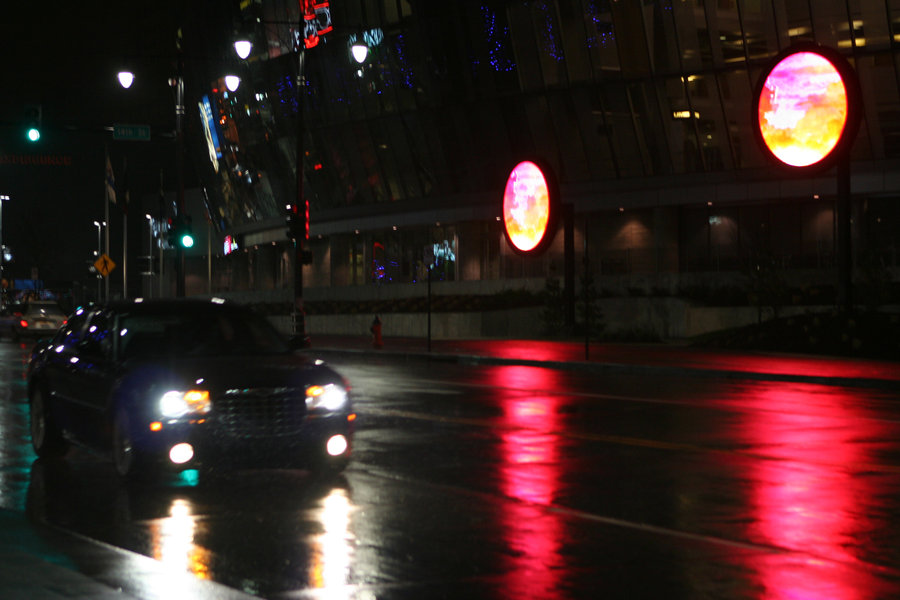car: (23, 294, 367, 499)
